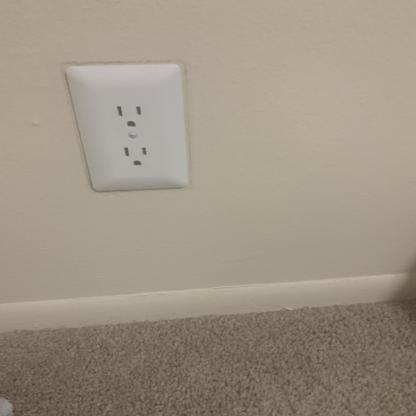OUTLET: (64, 65, 192, 191)
